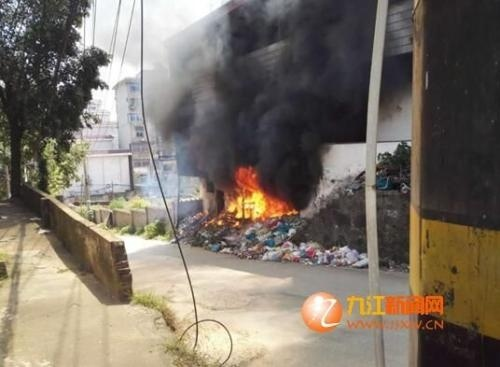fire: (205, 167, 298, 224)
